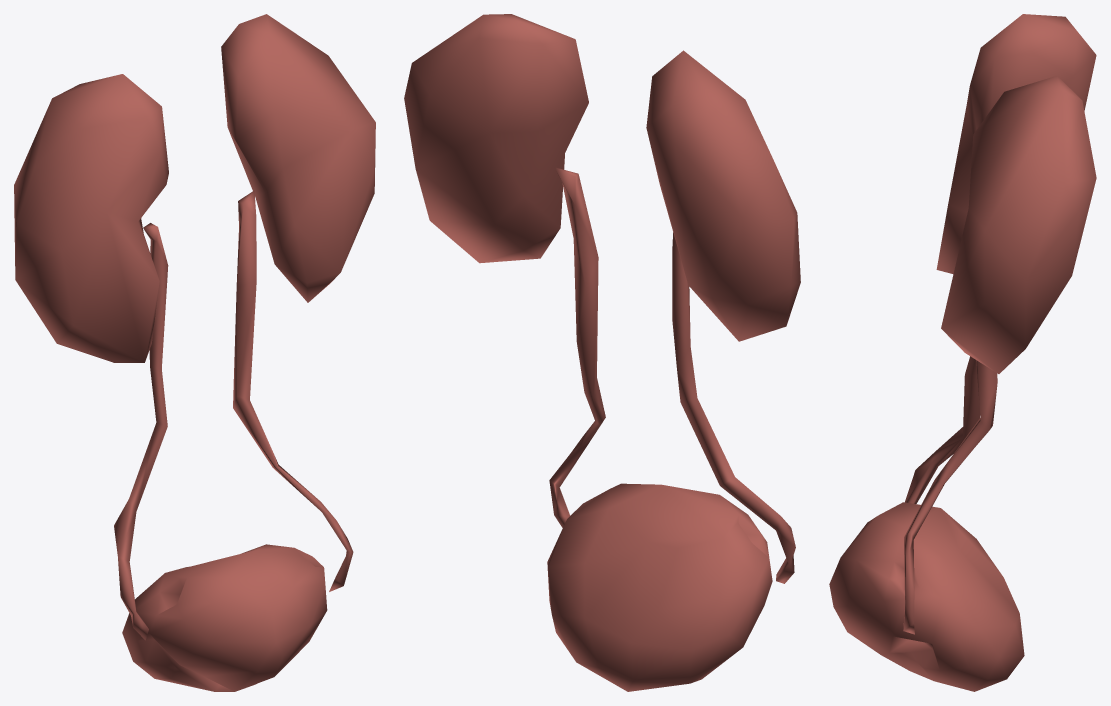
File: pediatric_infant_female.urinary.LOD3.glb
3 views of the same model, side by side, from view 1: azimuth 30°, elevation 25°; view 2: azimuth 150°, elevation 25°; view 3: azimuth 270°, elevation 25° (orthographic). The views are drawn at different scales.
Visible parts, largest first — view 1: PEDIATRIC.INFANT.FEMALE.URINARY.KIDNEY_CORTEX.R, PEDIATRIC.INFANT.FEMALE.URINARY.KIDNEY_CORTEX.L, PEDIATRIC.INFANT.FEMALE.URINARY.URINARY_BLADDER_WALL, PEDIATRIC.INFANT.FEMALE.URINARY.URETER.L, PEDIATRIC.INFANT.FEMALE.URINARY.URETER.R; view 2: PEDIATRIC.INFANT.FEMALE.URINARY.URINARY_BLADDER_WALL, PEDIATRIC.INFANT.FEMALE.URINARY.KIDNEY_CORTEX.L, PEDIATRIC.INFANT.FEMALE.URINARY.KIDNEY_CORTEX.R, PEDIATRIC.INFANT.FEMALE.URINARY.URETER.L, PEDIATRIC.INFANT.FEMALE.URINARY.URETER.R; view 3: PEDIATRIC.INFANT.FEMALE.URINARY.KIDNEY_CORTEX.L, PEDIATRIC.INFANT.FEMALE.URINARY.URINARY_BLADDER_WALL, PEDIATRIC.INFANT.FEMALE.URINARY.KIDNEY_CORTEX.R, PEDIATRIC.INFANT.FEMALE.URINARY.URETER.L, PEDIATRIC.INFANT.FEMALE.URINARY.URETER.R.
Part boxes in pixels (x1=…): PEDIATRIC.INFANT.FEMALE.URINARY.KIDNEY_CORTEX.R: x1=14, y1=74, x2=168, y2=362; PEDIATRIC.INFANT.FEMALE.URINARY.KIDNEY_CORTEX.L: x1=221, y1=14, x2=375, y2=302; PEDIATRIC.INFANT.FEMALE.URINARY.URINARY_BLADDER_WALL: x1=122, y1=544, x2=327, y2=691; PEDIATRIC.INFANT.FEMALE.URINARY.URETER.L: x1=233, y1=190, x2=353, y2=591; PEDIATRIC.INFANT.FEMALE.URINARY.URETER.R: x1=114, y1=223, x2=168, y2=640; PEDIATRIC.INFANT.FEMALE.URINARY.URINARY_BLADDER_WALL: x1=547, y1=483, x2=772, y2=691; PEDIATRIC.INFANT.FEMALE.URINARY.KIDNEY_CORTEX.L: x1=404, y1=14, x2=588, y2=263; PEDIATRIC.INFANT.FEMALE.URINARY.KIDNEY_CORTEX.R: x1=646, y1=50, x2=800, y2=341; PEDIATRIC.INFANT.FEMALE.URINARY.URETER.L: x1=549, y1=167, x2=605, y2=527; PEDIATRIC.INFANT.FEMALE.URINARY.URETER.R: x1=672, y1=232, x2=795, y2=583; PEDIATRIC.INFANT.FEMALE.URINARY.KIDNEY_CORTEX.L: x1=941, y1=76, x2=1096, y2=373; PEDIATRIC.INFANT.FEMALE.URINARY.URINARY_BLADDER_WALL: x1=829, y1=502, x2=1024, y2=691; PEDIATRIC.INFANT.FEMALE.URINARY.KIDNEY_CORTEX.R: x1=936, y1=14, x2=1096, y2=274; PEDIATRIC.INFANT.FEMALE.URINARY.URETER.L: x1=903, y1=360, x2=997, y2=634; PEDIATRIC.INFANT.FEMALE.URINARY.URETER.R: x1=905, y1=356, x2=980, y2=503.
Bounding box in the file's own units: 0.0972 × 0.1656 × 0.0625.
